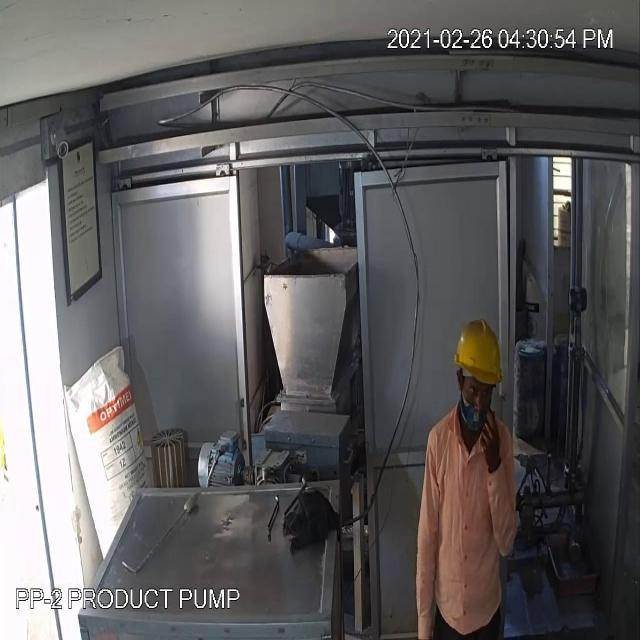helmet: (444, 305, 516, 406)
